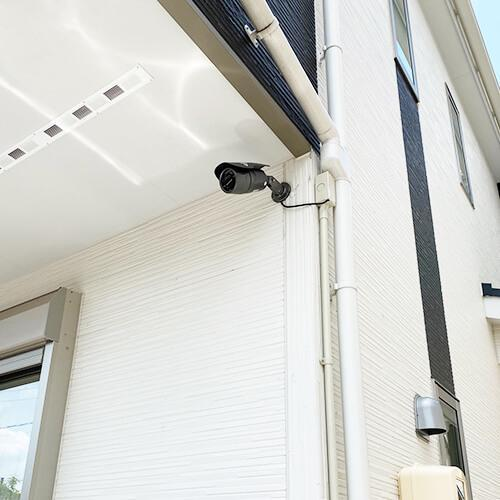tutu: (213, 155, 303, 220)
